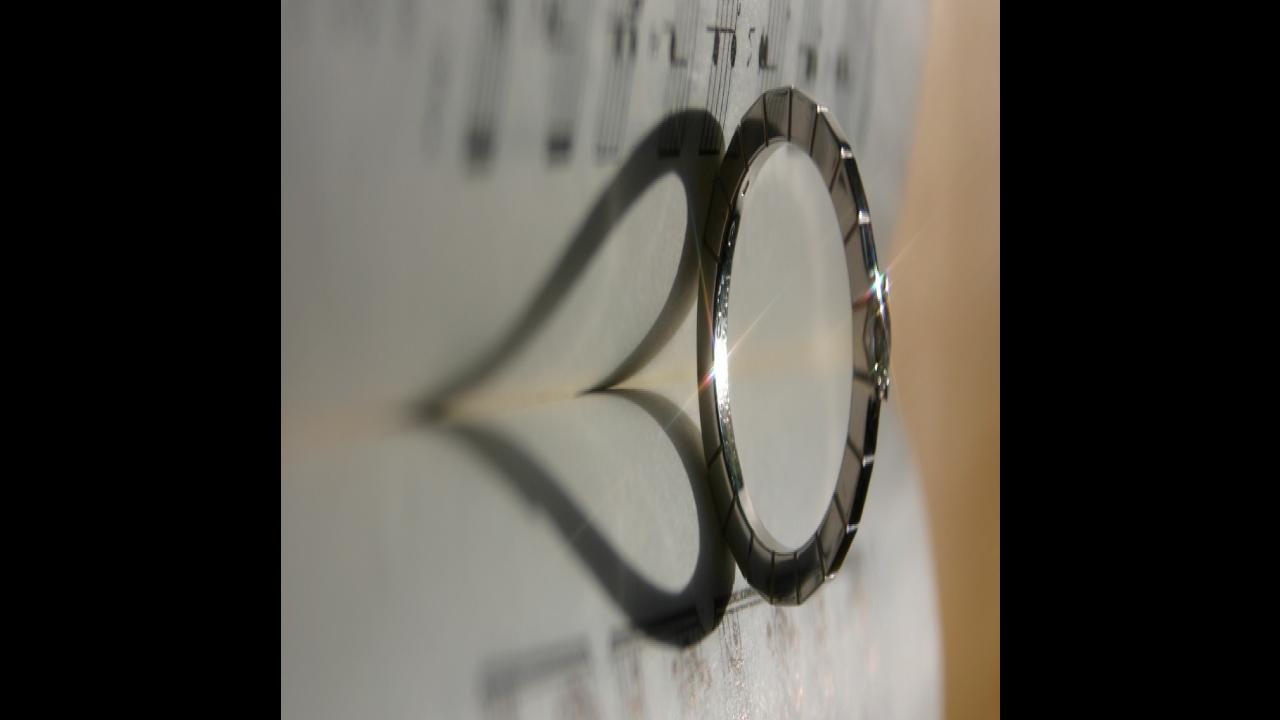ring: (694, 73, 892, 609)
